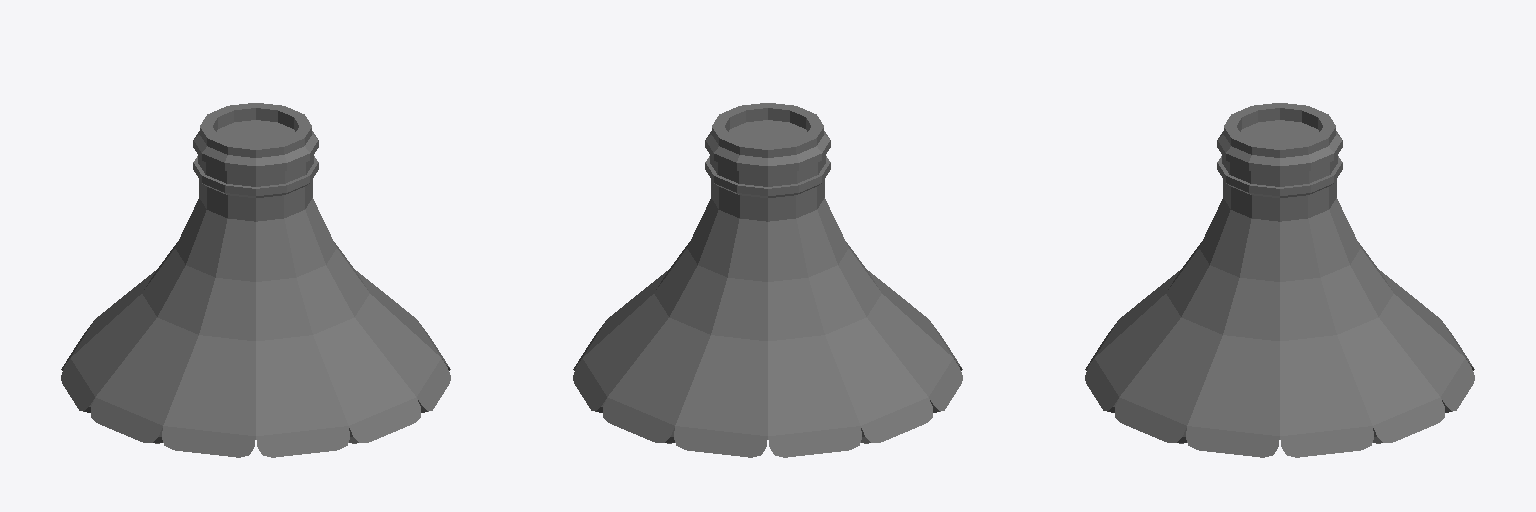
The model's file is MicroPhone.obj.
The picture shows the model from 3 angles: view 1: azimuth 30°, elevation 25°; view 2: azimuth 150°, elevation 25°; view 3: azimuth 270°, elevation 25°; orthographic projection.
Visible parts, largest first — view 1: MicroPhone; view 2: MicroPhone; view 3: MicroPhone.
Boxes of the visible parts, <box> form: MicroPhone: <box>61,103,450,457</box>; MicroPhone: <box>573,103,962,457</box>; MicroPhone: <box>1085,103,1474,457</box>.
Size of the model in its own units: 7.62 by 5.59 by 7.62.